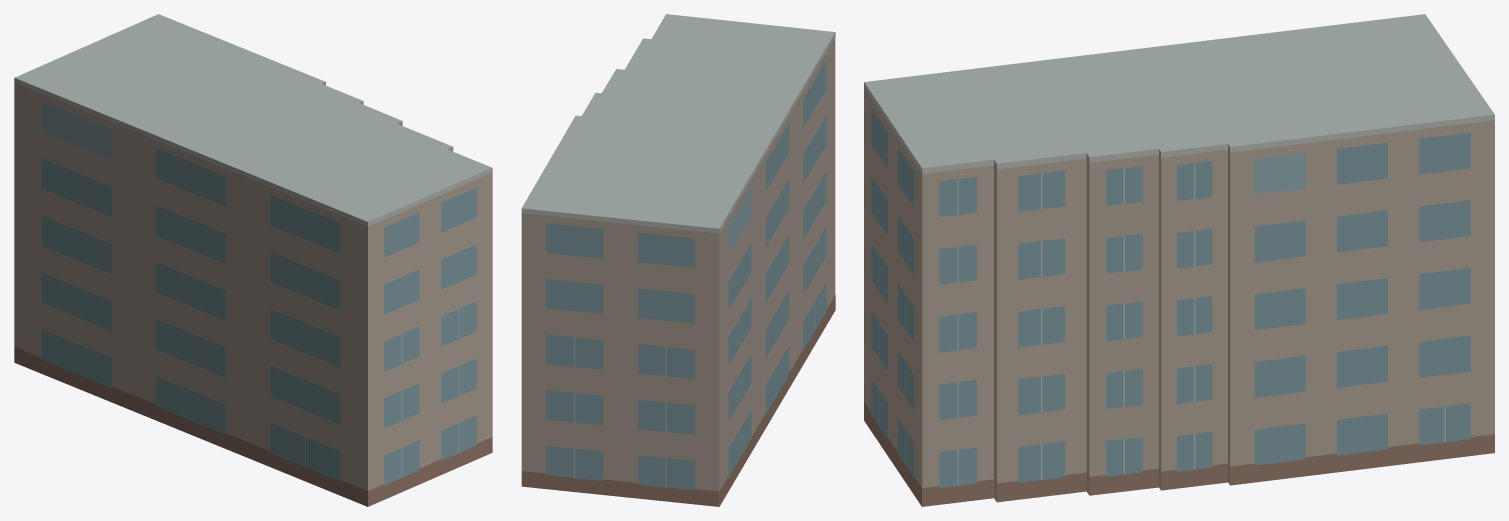
Rendered from survey-upis-32921074.glb.
The picture shows the model from 3 angles, left to right: view 1: azimuth 30°, elevation 25°; view 2: azimuth 150°, elevation 25°; view 3: azimuth 270°, elevation 25°; orthographic projection. The views are drawn at different scales.
Parts seen in each view (by area): view 1: survey-upis-32921074.tmp; view 2: survey-upis-32921074.tmp; view 3: survey-upis-32921074.tmp.
Part boxes in pixels (box(x1,y1,x2,y2)): survey-upis-32921074.tmp: box(14, 14, 492, 506); survey-upis-32921074.tmp: box(521, 14, 835, 506); survey-upis-32921074.tmp: box(864, 14, 1494, 506).
Size of the model in its own units: 14.19 by 14.5 by 24.5.
